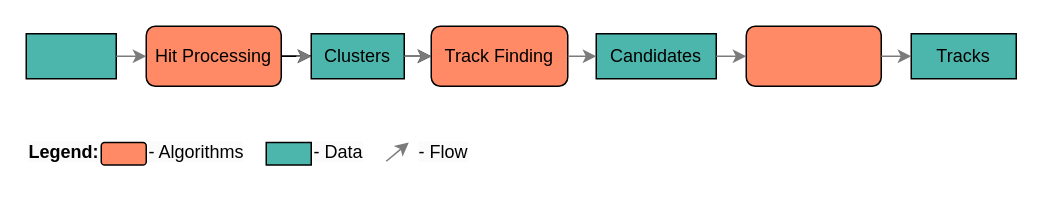
The diagram is 1043 pixels wide and 203 high, and some of its shapes have lost their labels. The shapes that lost their labels are listed below. From the top down, each one's box as (x1, y1, x2, y2) in pixels, then its label:
(25, 32, 116, 79): RawHits
(745, 25, 881, 86): Track Fitting
